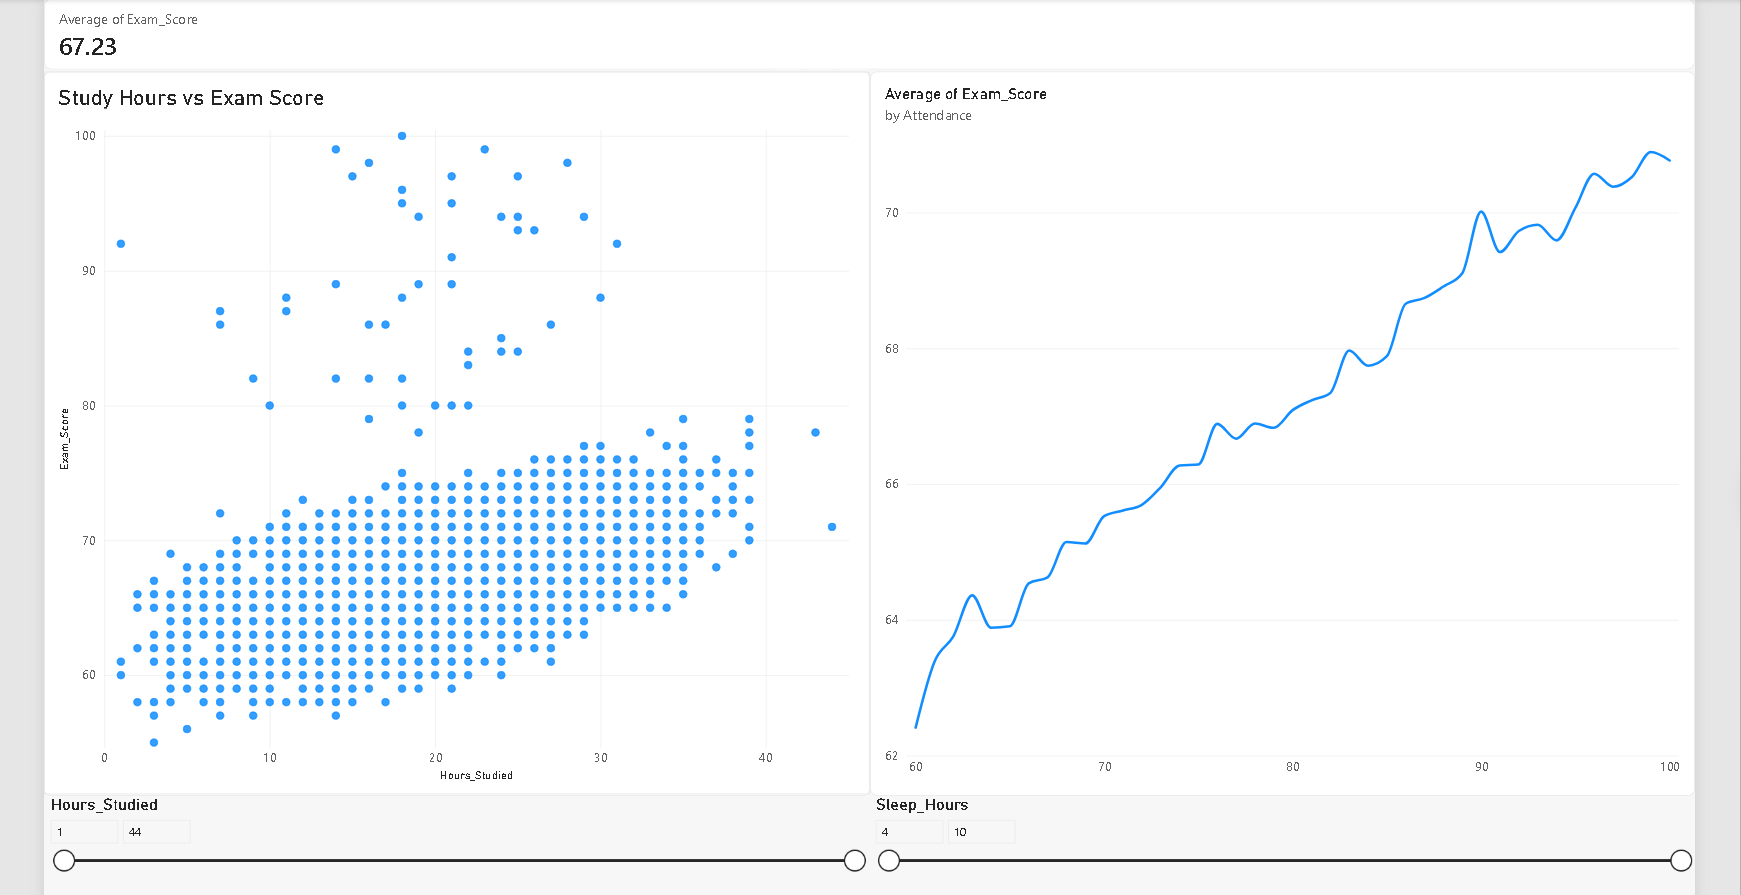

The dashboard page shown, as its layout file describes it:
{"tool":"powerbi","page":{"name":"Page 1","canvas":[1920,1080],"ordinal":0},"visuals":[{"type":"scatterChart","title":"Study Hours vs Exam Score","fields":{"X":["Cleaned_Student_Data_for_PowerBI (2).Hours_Studied"],"Y":["Cleaned_Student_Data_for_PowerBI (2).Exam_Score"]},"box":[0,83.7,961,842.4],"z":0},{"type":"cardVisual","fields":{"Data":["Avg(Cleaned_Student_Data_for_PowerBI (2).Exam_Score)"]},"box":[0,0,1920.7,82.9],"z":1000},{"type":"slicer","fields":{"Values":["Cleaned_Student_Data_for_PowerBI (2).Hours_Studied"]},"box":[0,926.2,959.3,151.7],"z":2000},{"type":"slicer","fields":{"Values":["Cleaned_Student_Data_for_PowerBI (2).Sleep_Hours"]},"box":[959.3,926.2,961,151.7],"z":3000},{"type":"lineChart","fields":{"Category":["Cleaned_Student_Data_for_PowerBI (2).Attendance"],"Y":["Avg(Cleaned_Student_Data_for_PowerBI (2).Exam_Score)"]},"box":[961,84,959,842],"z":4000}]}

Visuals, with their boxes on the page's 1920x1080 design canvas (x1, y1, x2, y2). These are canvas units, not pixel positions in the 1741x895 screenshot, which may show the page scaled, cropped or inside an application window:
"Study Hours vs Exam Score" scatterChart: (left=0, top=84, right=961, bottom=926)
cardVisual - Avg(Cleaned_Student_Data_for_PowerBI (2).Exam_Score): (left=0, top=0, right=1921, bottom=83)
slicer - Cleaned_Student_Data_for_PowerBI (2).Hours_Studied: (left=0, top=926, right=959, bottom=1078)
slicer - Cleaned_Student_Data_for_PowerBI (2).Sleep_Hours: (left=959, top=926, right=1920, bottom=1078)
lineChart - Cleaned_Student_Data_for_PowerBI (2).Attendance x Avg(Cleaned_Student_Data_for_PowerBI (2).Exam_Score): (left=961, top=84, right=1920, bottom=926)
